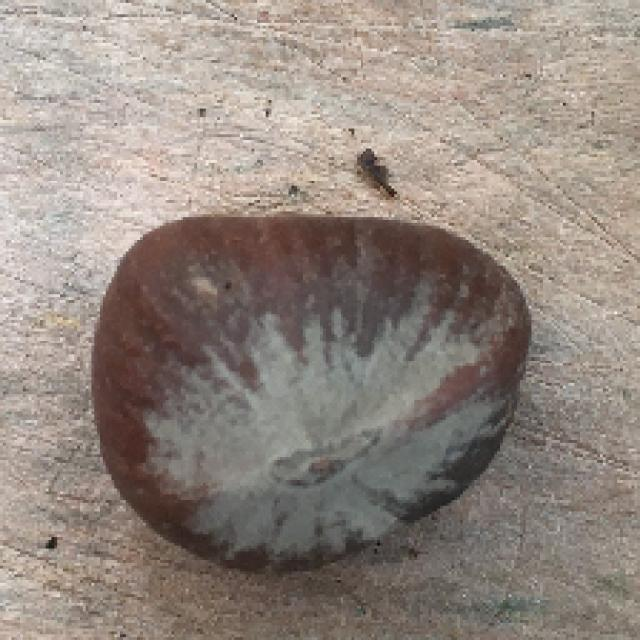qualityHazelnut: (92, 211, 528, 575)
